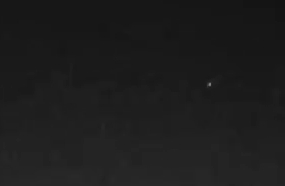Target: (207, 83, 210, 86)
